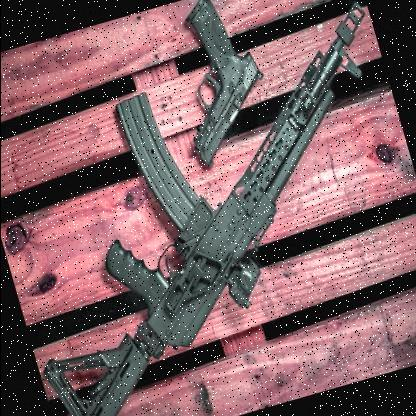rifle: (0, 0, 416, 416), (142, 0, 293, 183)
